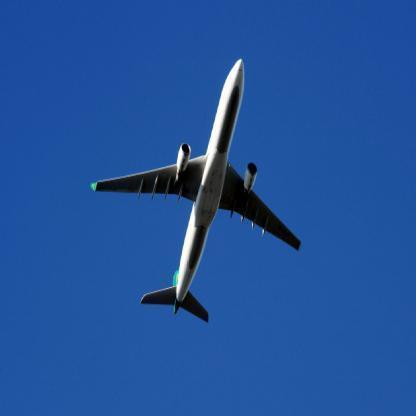aircraft: (90, 57, 304, 325)
